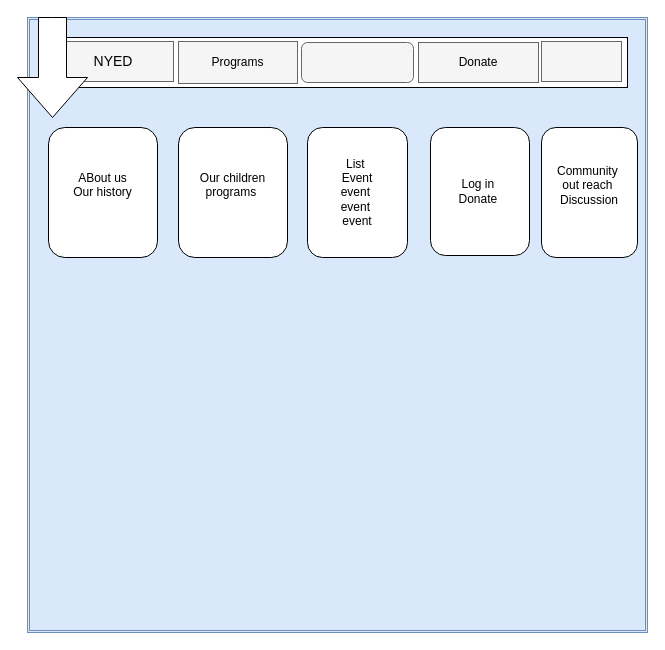
Image size: 665x650. Some labels were removed from this diagram. Each missing label, with the centre of its shape:
Blog: the point at 581,61
Events: the point at 357,62
